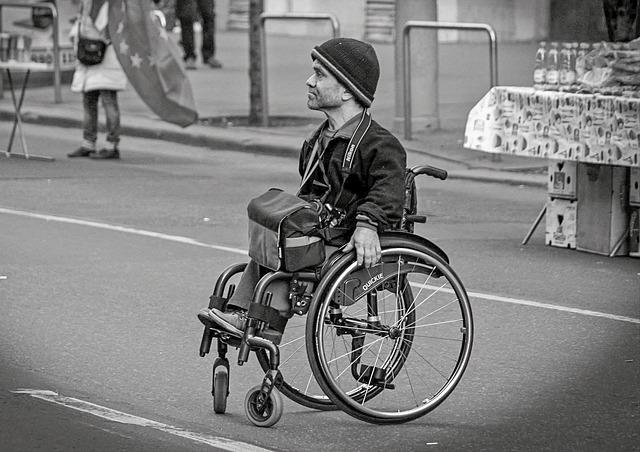wheelchair: (197, 37, 474, 427)
